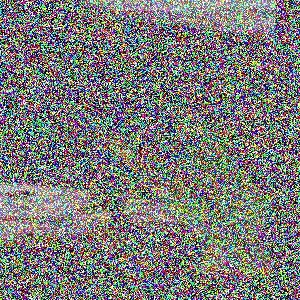Brown_Spot: (71, 2, 134, 70), (87, 130, 157, 178), (0, 43, 59, 96), (136, 176, 181, 211)
